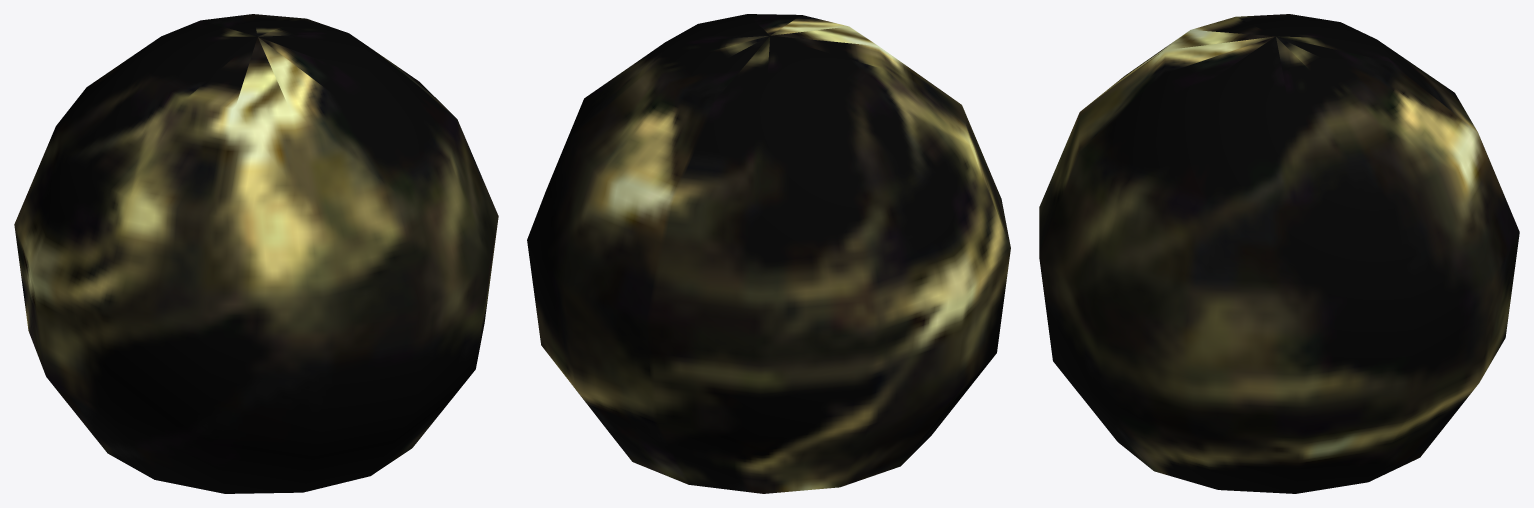
The model's file is ball.FBX.
3 renders of one model, left to right at view 1: azimuth 30°, elevation 25°; view 2: azimuth 150°, elevation 25°; view 3: azimuth 270°, elevation 25°, orthographic.
Visible parts, largest first — view 1: Sphere001; view 2: Sphere001; view 3: Sphere001.
Part boxes in pixels (left/top/right/bottom): Sphere001: left=14, top=14, right=498, bottom=493; Sphere001: left=527, top=14, right=1010, bottom=493; Sphere001: left=1039, top=14, right=1519, bottom=493.
Size of the model in its own units: 394 by 400 by 391.
Materials: 1 (1 with a texture image).
